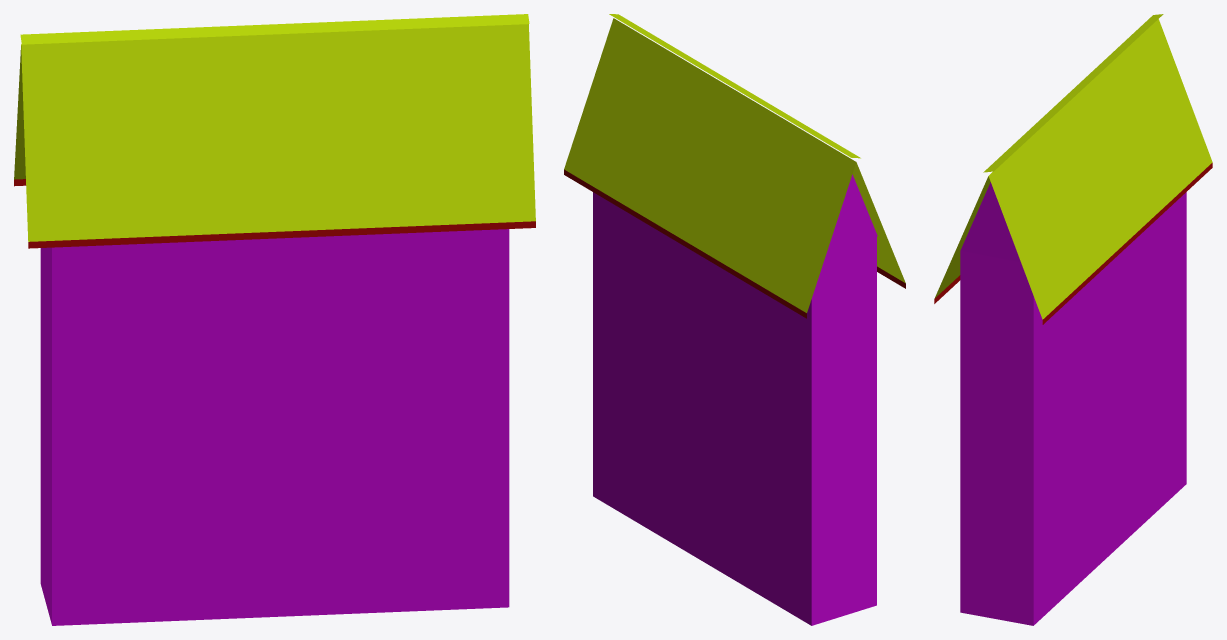
File: rmc_94.glb
3 views of the same model, side by side, from view 1: azimuth 30°, elevation 25°; view 2: azimuth 150°, elevation 25°; view 3: azimuth 270°, elevation 25° (orthographic). The views are drawn at different scales.
Visible parts, largest first — view 1: rmc_94; view 2: rmc_94; view 3: rmc_94.
Part boxes in pixels (x1=…): rmc_94: x1=14, y1=14, x2=535, y2=625; rmc_94: x1=564, y1=14, x2=905, y2=625; rmc_94: x1=934, y1=14, x2=1212, y2=625.
Size of the model in its own units: 8.56 by 10.22 by 5.65.
